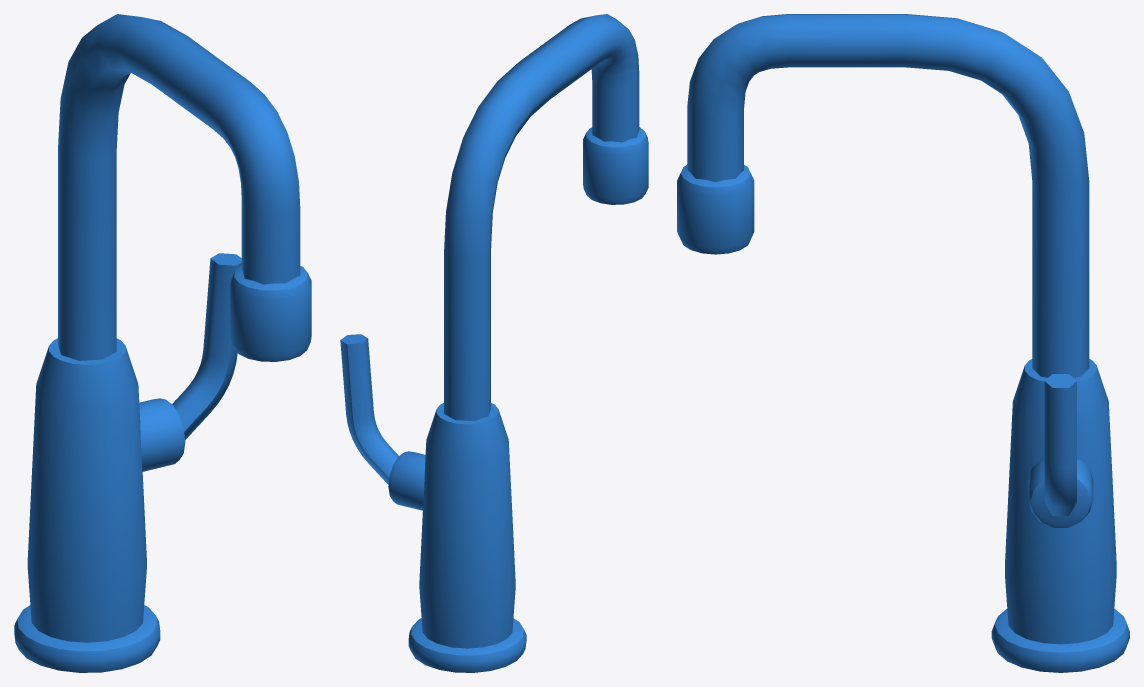
Rendered from torneira_gourmet_azul.glb.
3 views of the same model, side by side, from view 1: azimuth 30°, elevation 25°; view 2: azimuth 150°, elevation 25°; view 3: azimuth 270°, elevation 25° (orthographic). The views are drawn at different scales.
Parts seen in each view (by area): view 1: torneira_gourmet_azul; view 2: torneira_gourmet_azul; view 3: torneira_gourmet_azul.
Boxes of the visible parts, <box> form: torneira_gourmet_azul: <box>14,14,311,672</box>; torneira_gourmet_azul: <box>340,14,648,672</box>; torneira_gourmet_azul: <box>677,14,1129,672</box>.
Size of the model in its own units: 0.1159 by 0.344 by 0.223.
Materials: 1 (1 with a texture image).
